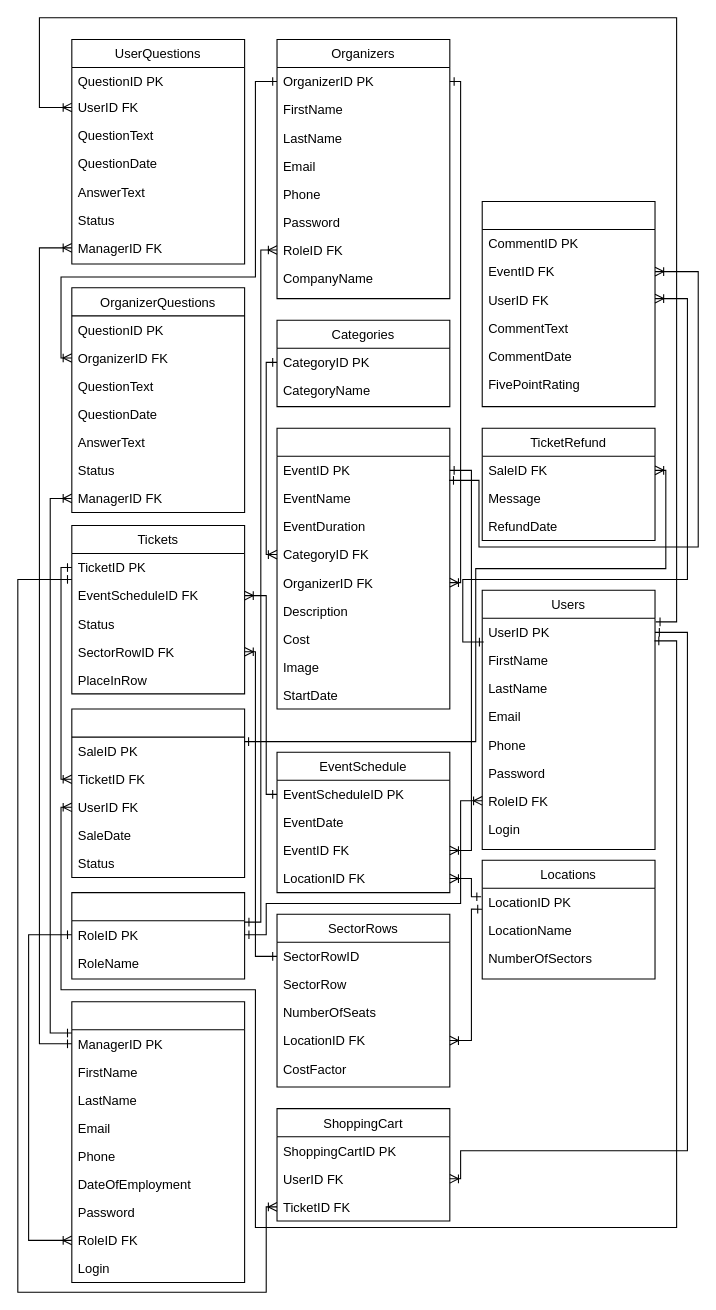
This 716x1310 diagram has some shape labels left out. The box of each missing label's shape, as (x1, y1, x2, y2) in pixels:
Comments: (481, 200, 655, 407)
Events: (276, 427, 450, 709)
Managers: (71, 1001, 245, 1282)
Roles: (71, 892, 245, 979)
Sales: (71, 708, 245, 878)
